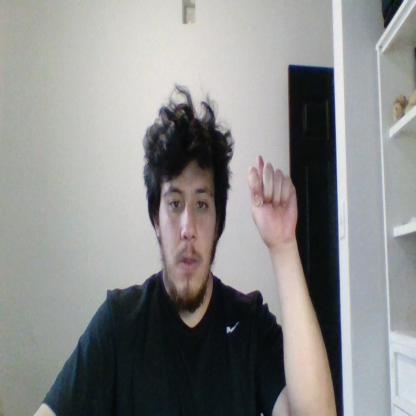T: (246, 152, 298, 246)
